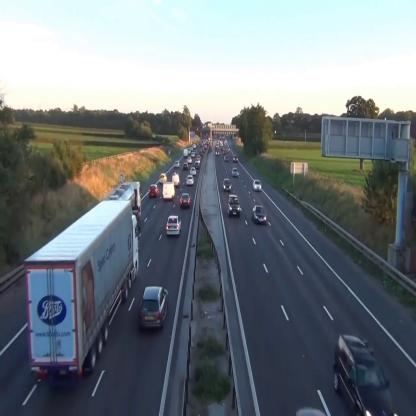car: (332, 334, 398, 416), (139, 286, 168, 332), (166, 216, 182, 236), (252, 205, 267, 225), (228, 194, 239, 217), (180, 193, 190, 208), (149, 184, 159, 198), (222, 178, 232, 192), (252, 179, 262, 192), (160, 173, 168, 184), (186, 175, 194, 185)
lorry: (24, 200, 140, 382), (105, 181, 141, 232), (163, 182, 175, 200), (172, 172, 180, 187)
